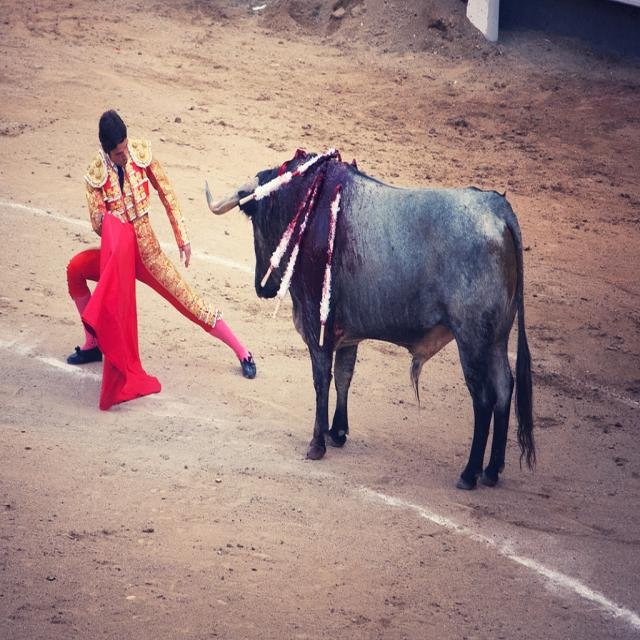Bull: (205, 146, 540, 491)
